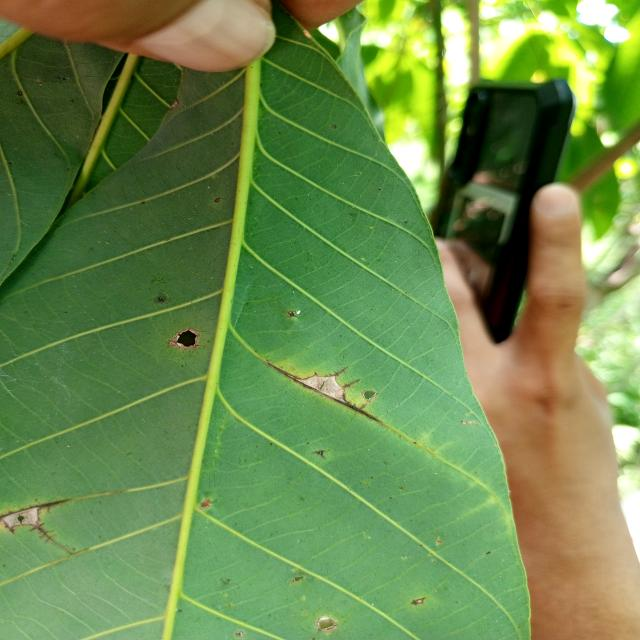Colletotrichum: (415, 598, 424, 604), (214, 198, 220, 203)
Corynespora: (268, 362, 378, 422), (0, 498, 71, 534), (31, 523, 74, 555), (329, 368, 347, 377), (312, 450, 326, 459)
Leaf-Blight: (297, 376, 345, 402), (3, 507, 40, 528)
